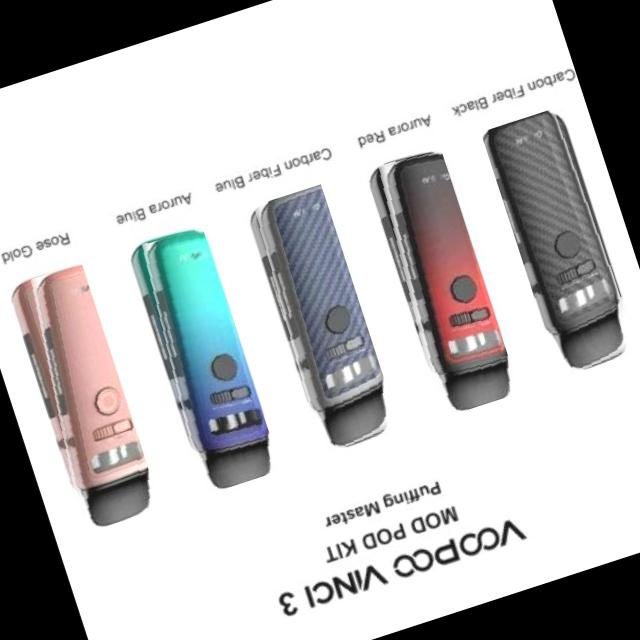Hazard: (360, 144, 520, 417), (481, 104, 640, 377), (242, 182, 400, 456), (3, 261, 162, 532), (124, 223, 282, 494)
